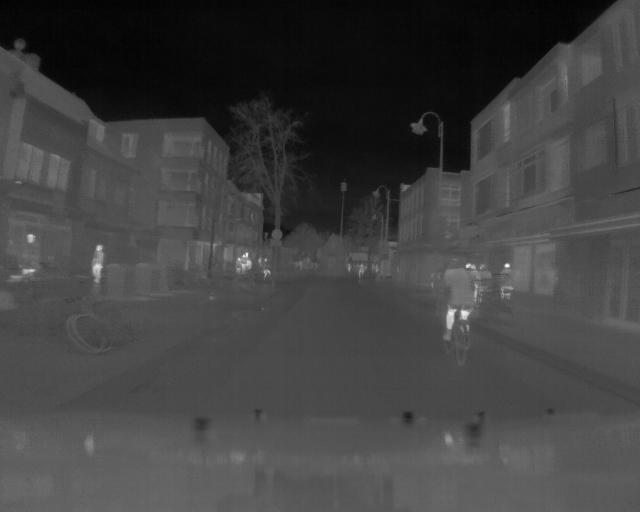person: (440, 256, 471, 342), (20, 232, 41, 280), (90, 240, 106, 282), (500, 261, 514, 302), (261, 256, 272, 282)
